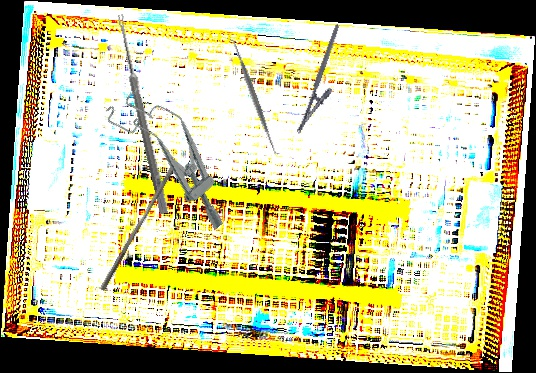Needle Holder: (295, 23, 355, 140)
Pusher: (99, 160, 178, 295)
Spatula Surgical: (225, 33, 282, 159)
Speculum: (101, 76, 251, 238)
Surgical Spoon: (114, 13, 170, 215)
